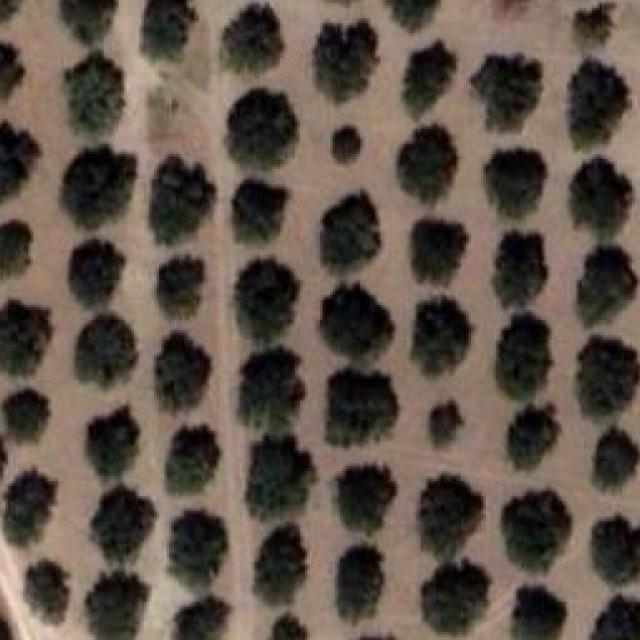Tree: (221, 84, 297, 170), (225, 255, 302, 339), (499, 486, 569, 573), (59, 147, 136, 226), (392, 121, 463, 205), (418, 553, 489, 637), (321, 368, 397, 446), (238, 348, 305, 436), (312, 18, 380, 104), (241, 439, 315, 518), (470, 58, 543, 137), (61, 56, 126, 143), (567, 58, 629, 149), (145, 161, 211, 246), (317, 192, 380, 281), (321, 288, 393, 364), (416, 474, 483, 555), (578, 330, 640, 417), (567, 157, 632, 239), (569, 242, 634, 324), (81, 406, 144, 485), (151, 421, 216, 497), (219, 3, 282, 81), (225, 174, 292, 247), (496, 313, 552, 400), (400, 38, 461, 115), (77, 310, 139, 385), (484, 141, 548, 213), (410, 298, 469, 376), (155, 333, 216, 408), (332, 541, 385, 626), (256, 524, 313, 603), (166, 511, 224, 587), (0, 468, 57, 545), (333, 461, 393, 534), (86, 573, 151, 640), (87, 491, 151, 559), (488, 231, 546, 306), (66, 242, 126, 307), (0, 301, 54, 373), (589, 514, 640, 588), (411, 219, 468, 283), (141, 0, 197, 65), (21, 559, 74, 624), (507, 405, 559, 471), (0, 385, 51, 452), (58, 0, 124, 51), (509, 583, 567, 640), (0, 115, 42, 193), (156, 253, 204, 315), (593, 429, 639, 491), (173, 593, 230, 640), (568, 0, 619, 52), (589, 593, 640, 640), (0, 217, 33, 284), (0, 38, 28, 103), (385, 0, 441, 31), (429, 400, 463, 449), (326, 124, 362, 167), (267, 617, 315, 640), (0, 0, 23, 23)
